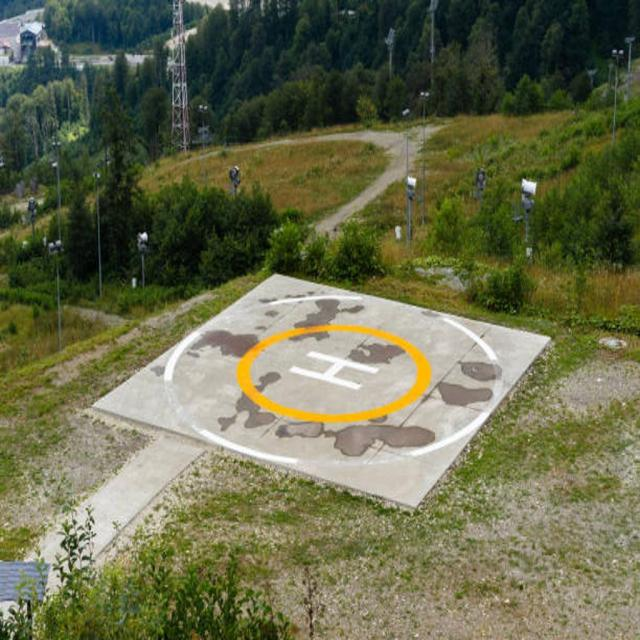helipad: (234, 323, 430, 421)
